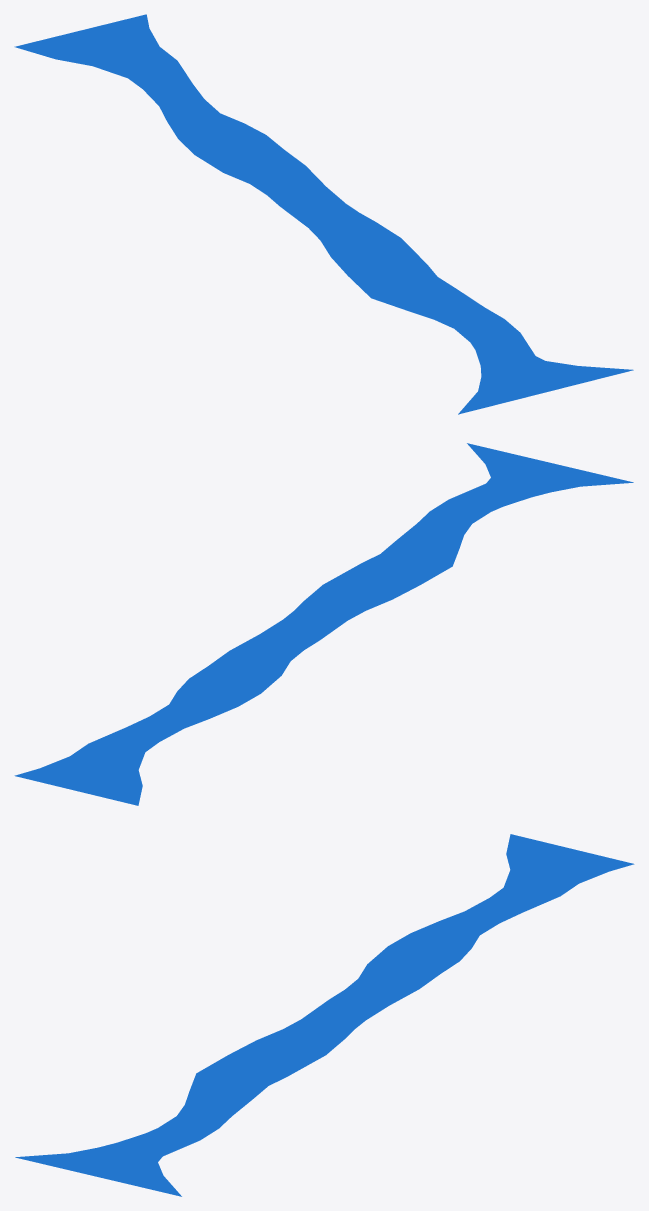
3 renders of one model, top to bottom at view 1: azimuth 30°, elevation 25°; view 2: azimuth 150°, elevation 25°; view 3: azimuth 330°, elevation 25°, orthographic. The views are drawn at different scales.
Visible parts, largest first — view 1: river; view 2: river; view 3: river.
Boxes of the visible parts, x1,y1,x2,y2 form: river: [14, 14, 633, 414]; river: [14, 443, 633, 805]; river: [15, 834, 634, 1196].
Bounding box in the file's own units: 32918 × 0.0253 × 155537.
